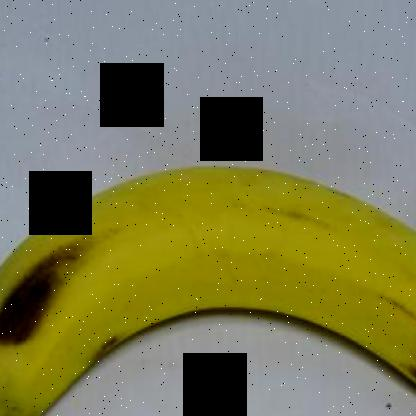freshripe: (1, 134, 415, 415)
